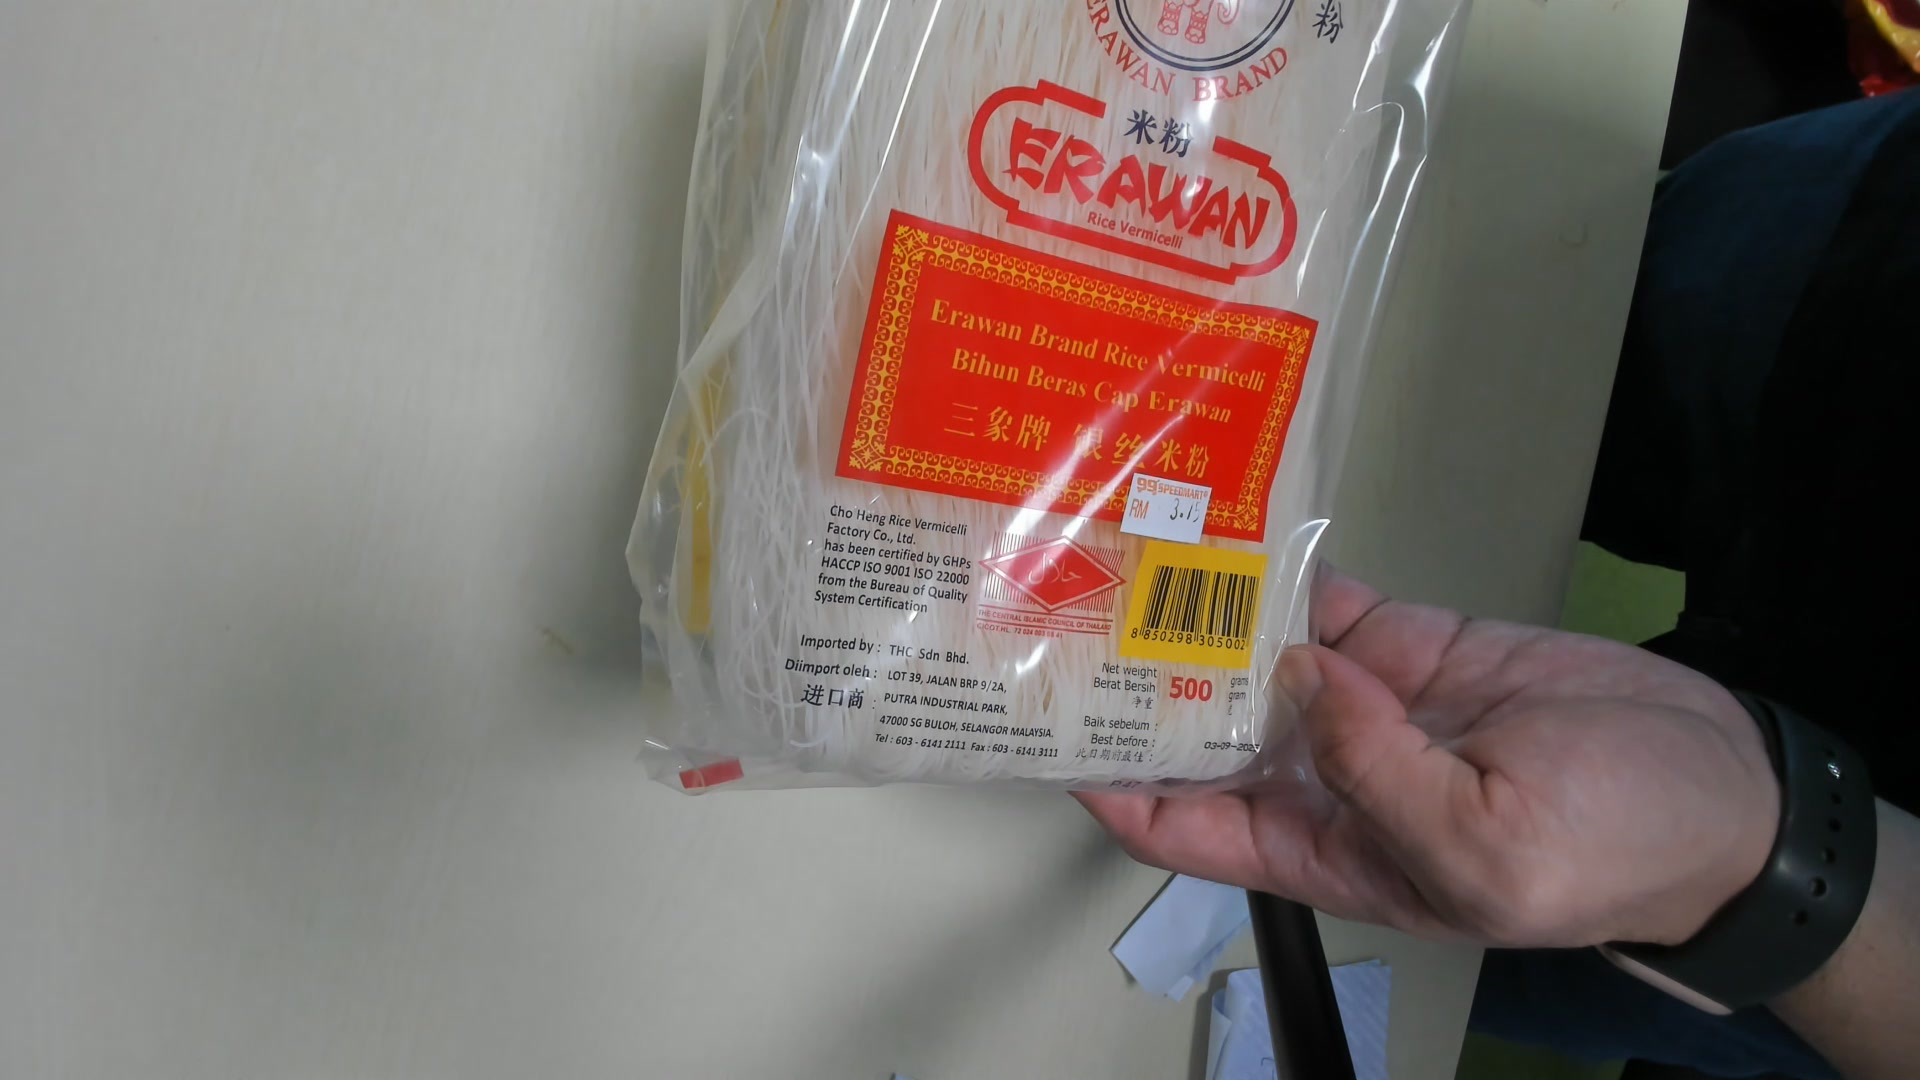BeeHoonVermicelli_500-599g_Halal_NonHealthy: (640, 7, 1452, 787)
